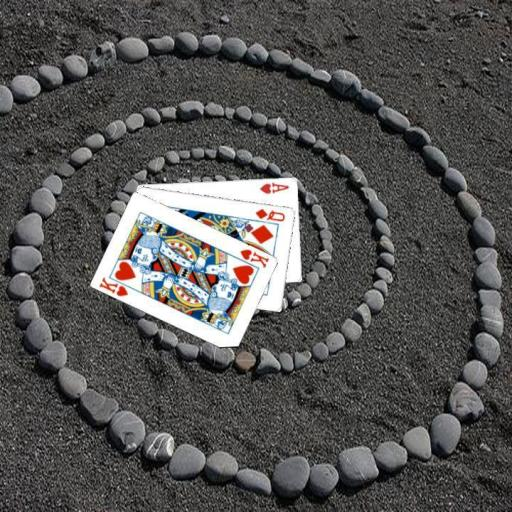card-corner: (237, 246, 271, 270), (97, 274, 129, 298), (252, 204, 286, 222), (257, 179, 290, 195)
